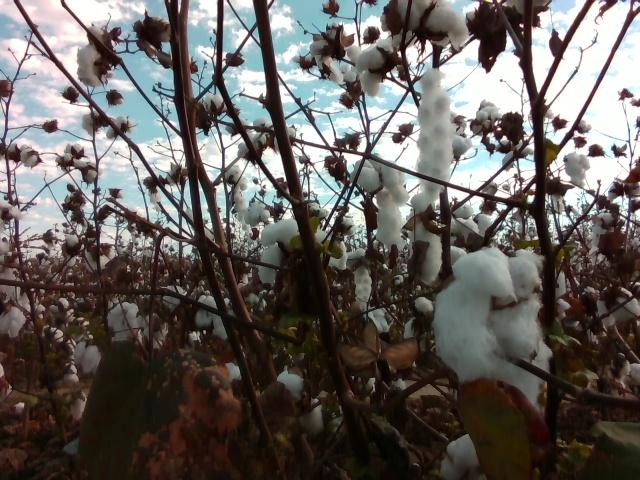cotton_ready: (432, 251, 541, 388), (257, 218, 347, 285), (349, 152, 409, 246), (416, 68, 455, 199), (489, 342, 554, 415), (379, 0, 469, 48), (358, 33, 412, 99), (274, 371, 326, 436), (310, 27, 363, 83), (410, 196, 442, 282), (438, 434, 488, 480), (78, 26, 114, 87), (401, 295, 436, 353), (107, 301, 145, 346), (597, 288, 640, 327), (436, 200, 479, 238), (194, 295, 230, 339), (348, 247, 371, 311), (74, 342, 106, 378), (563, 152, 591, 188), (0, 305, 26, 339), (0, 269, 17, 304), (454, 134, 471, 158)
